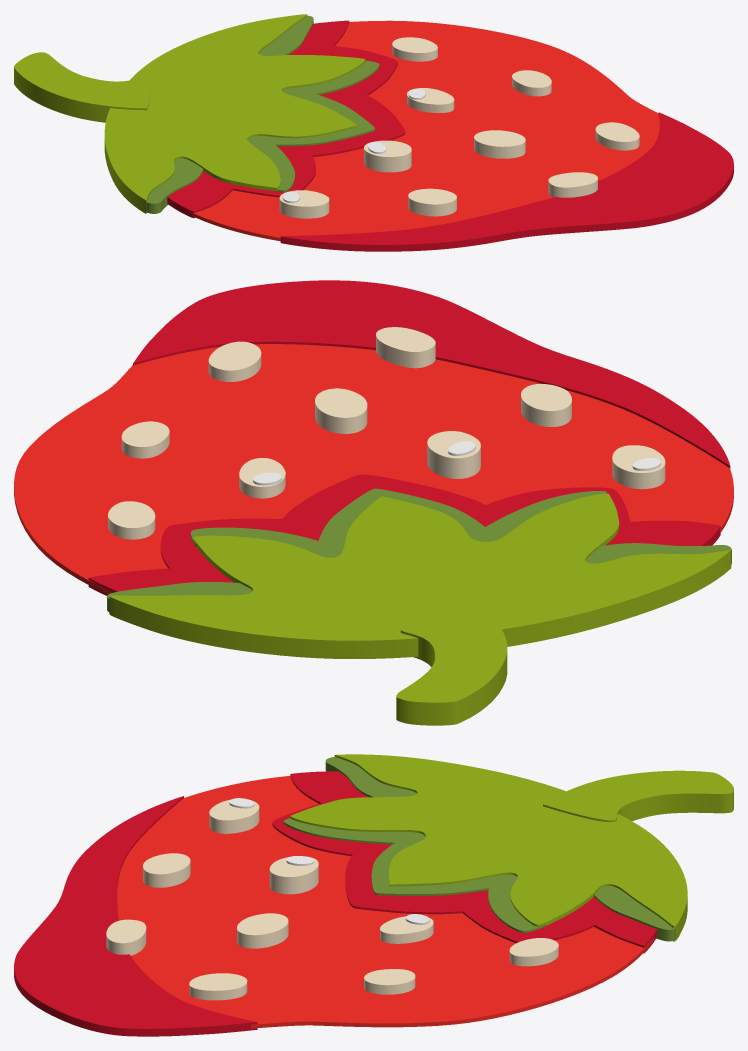
Rendered from emoji_u1f353.glb.
3 renders of one model, top to bottom at view 1: azimuth 30°, elevation 25°; view 2: azimuth 150°, elevation 25°; view 3: azimuth 270°, elevation 25°, orthographic. The views are drawn at different scales.
Visible parts, largest first — view 1: emoji_u1f353; view 2: emoji_u1f353; view 3: emoji_u1f353.
Part boxes in pixels (x1=…): emoji_u1f353: x1=14, y1=14, x2=733, y2=251; emoji_u1f353: x1=14, y1=280, x2=733, y2=725; emoji_u1f353: x1=14, y1=754, x2=733, y2=1036.
Bounding box in the file's own units: 0.0302 × 0.0022 × 0.0339.
